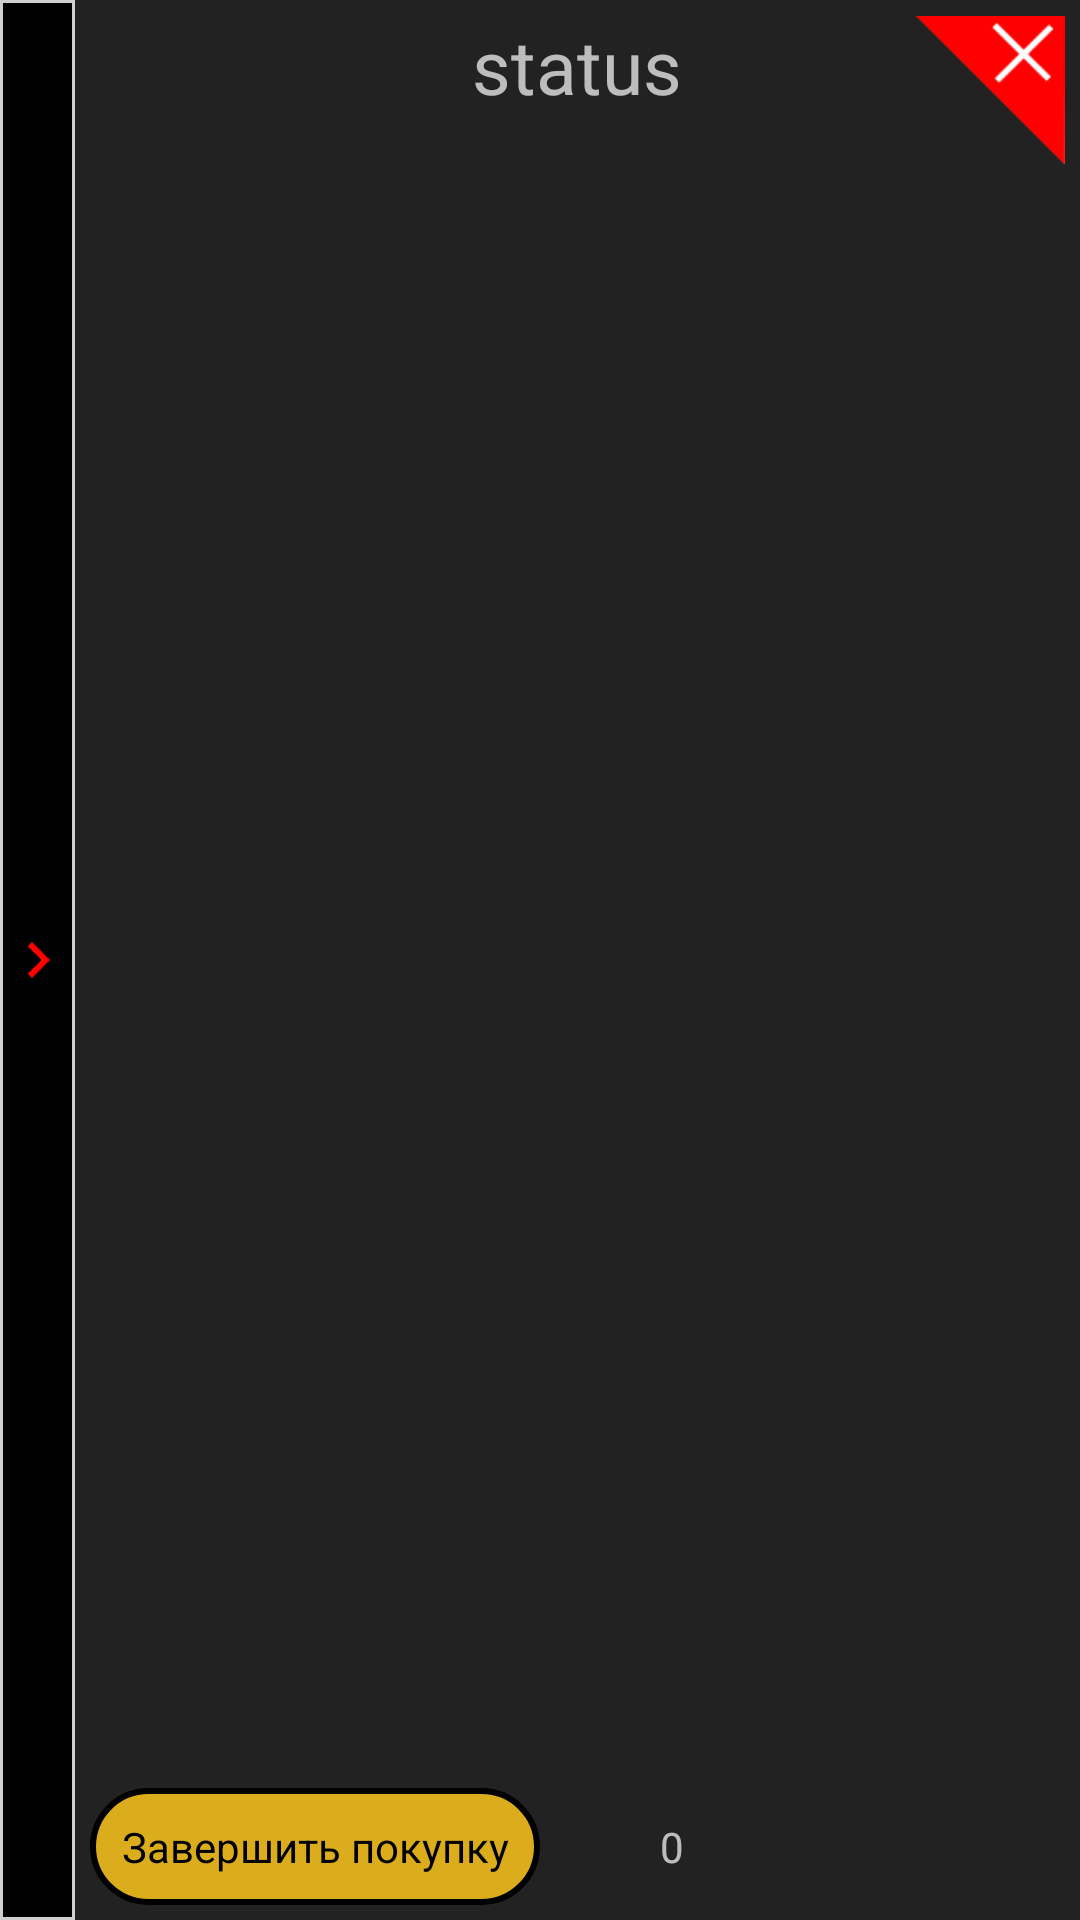

Named icons in this screenshot (1080px x 1920px) and their centers, (x=x, y=y):
close purchase: (x=990, y=90)
